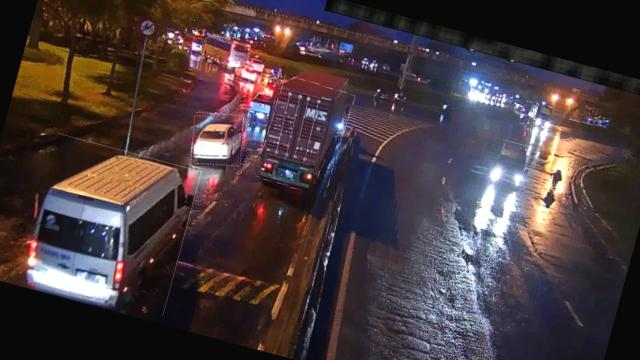Bike: (549, 165, 566, 192)
Bus: (18, 132, 201, 316), (490, 139, 534, 192), (198, 33, 245, 70)
Car: (184, 106, 250, 172), (232, 62, 262, 86)
Truck: (254, 74, 354, 197)
